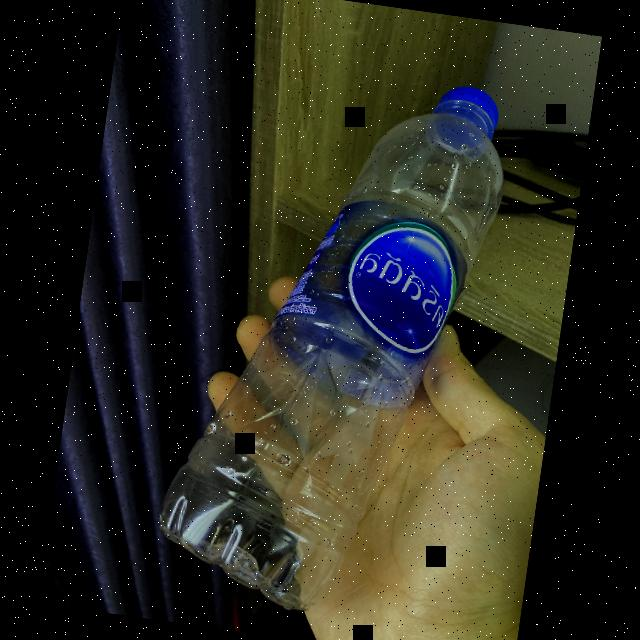plastic_bottle: (147, 46, 527, 627)
plastic_bottle_cap: (428, 82, 502, 156)
